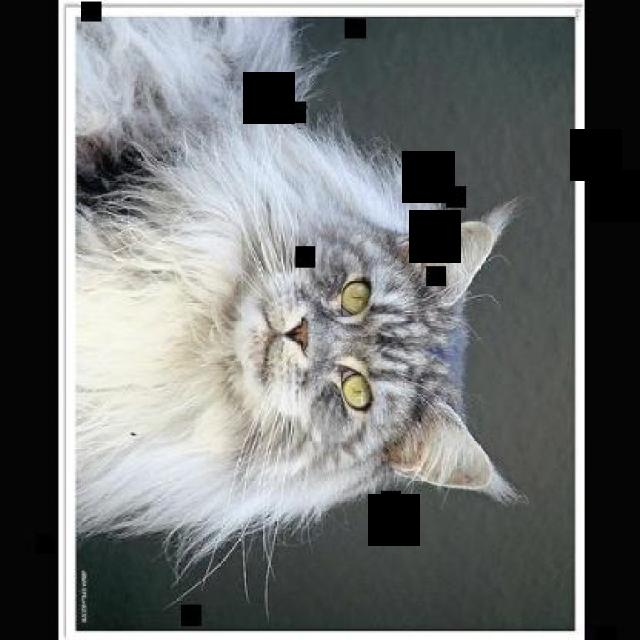unauthorized: (74, 16, 528, 616)
